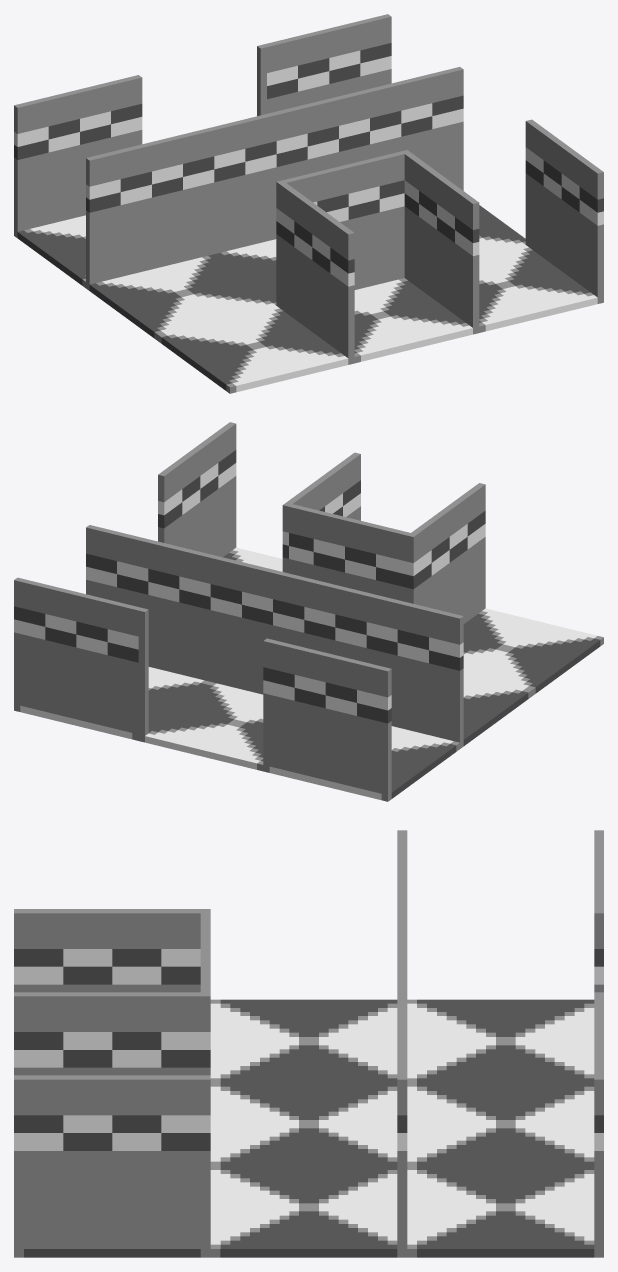
Rendered from level_maze-18.obj.
3 renders of one model, top to bottom at view 1: azimuth 30°, elevation 25°; view 2: azimuth 150°, elevation 25°; view 3: azimuth 270°, elevation 25°, orthographic. The views are drawn at different scales.
Parts seen in each view (by area): view 1: level_maze-18; view 2: level_maze-18; view 3: level_maze-18.
Boxes of the visible parts, box(x1,y1,x2,y2) form: level_maze-18: box(14, 14, 603, 393); level_maze-18: box(14, 422, 603, 801); level_maze-18: box(14, 830, 603, 1257).
Bounding box in the file's own units: 60 × 20 × 60.
Materials: 1 (1 with a texture image).
